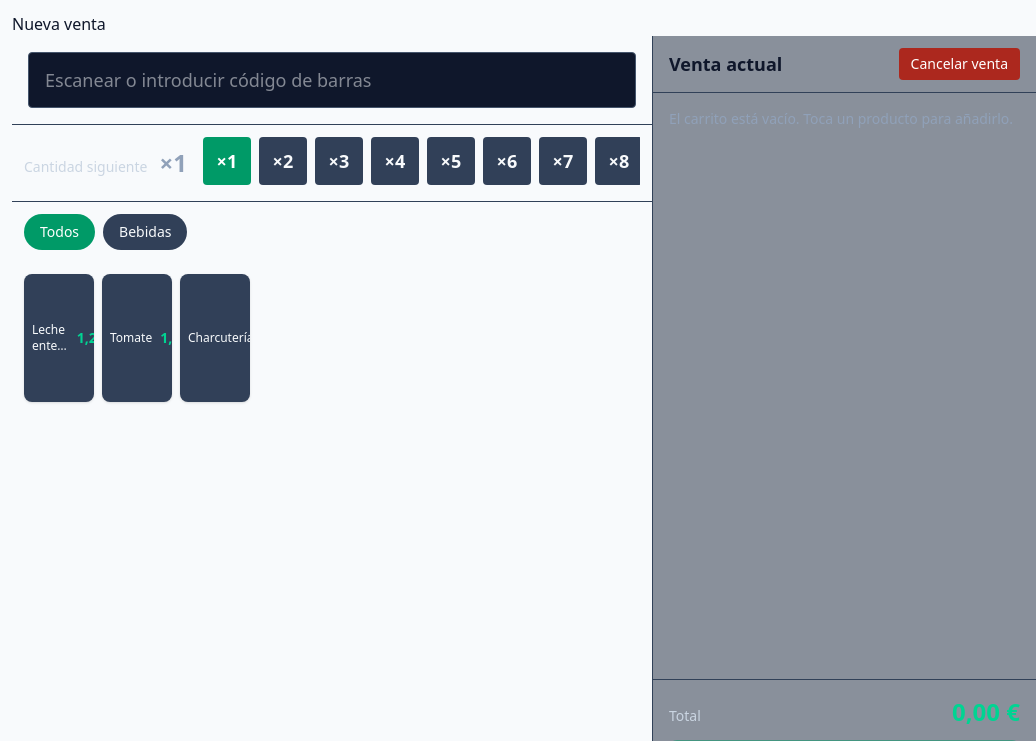
Test case: PosHomePage › sells several units at once with the multiplier row
This screenshot has width=1036, height=741.
Expected: the button "Leche entera 1L 1,20 €" is shown, [24,274,94,402]
Click the button "×3".
click(339, 161)  # box [315,137,363,185]
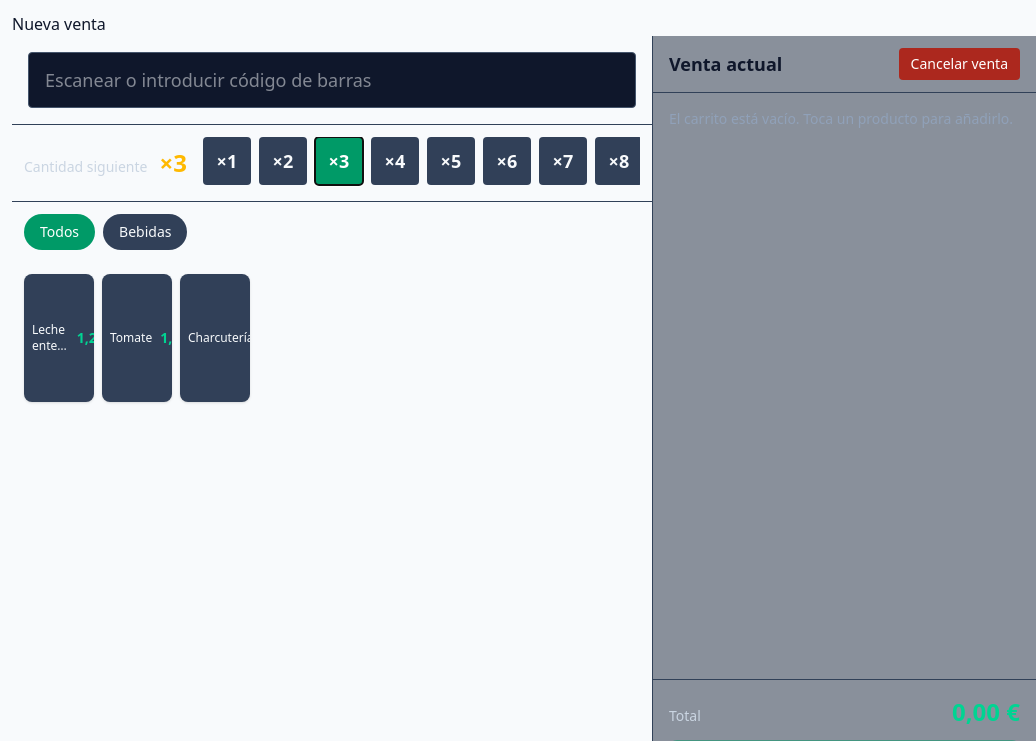
Expected: the text named "Cantidad para el siguiente producto" reads "×3", [159,147,187,179]
Click the button "Leche entera 1L 1,20 €".
click(59, 338)  # box [24,274,94,402]
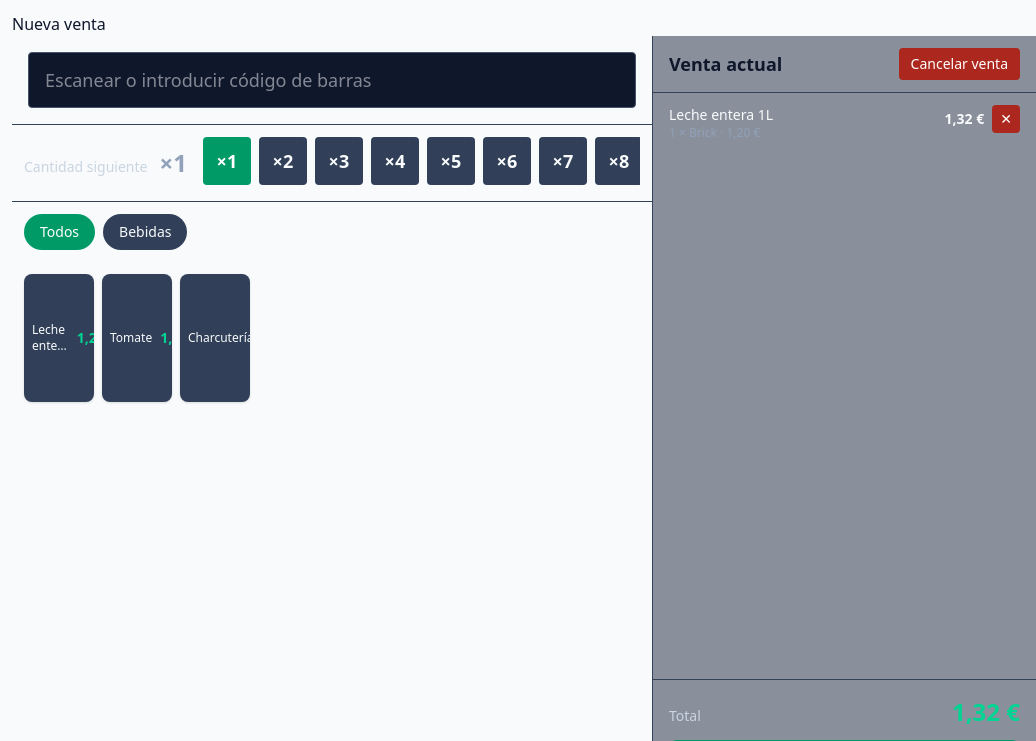
Expected: the text named "Cantidad para el siguiente producto" reads "×1", [159,147,187,179]
